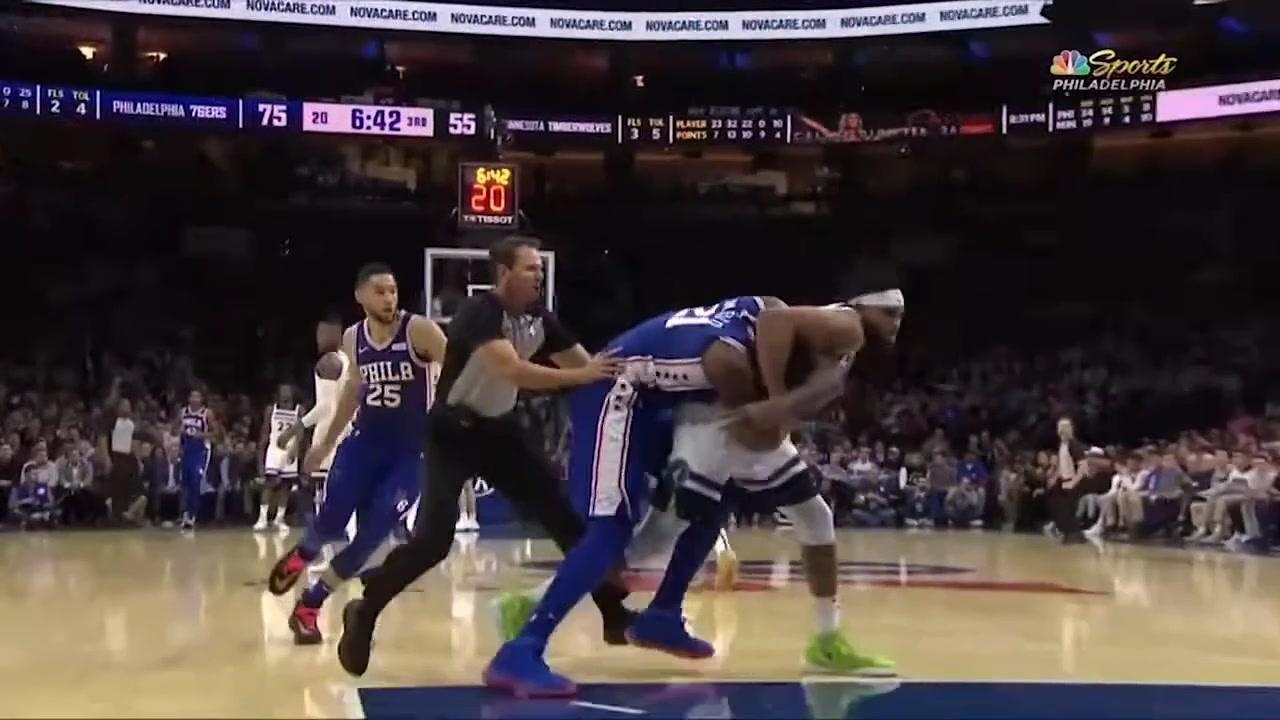foul: (562, 280, 919, 684)
